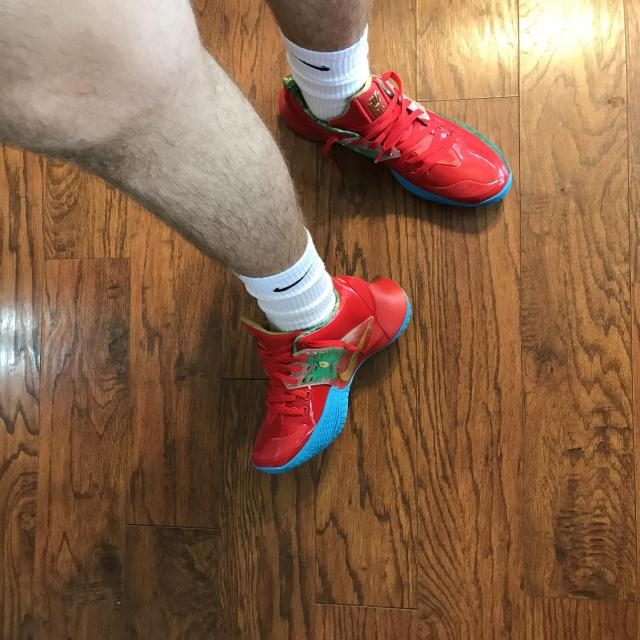shoes: (221, 267, 419, 487), (261, 65, 530, 225)
